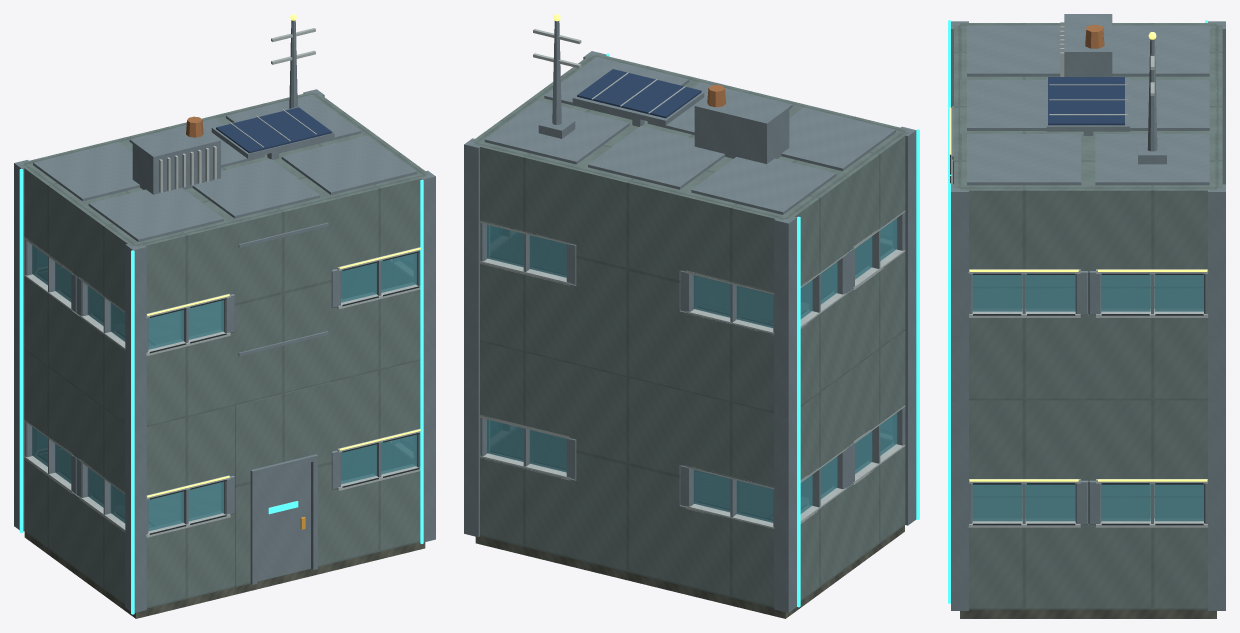
File: habitat.gltf
The picture shows the model from 3 angles, left to right: view 1: azimuth 30°, elevation 25°; view 2: azimuth 150°, elevation 25°; view 3: azimuth 270°, elevation 25°; orthographic projection. The views are drawn at different scales.
Parts seen in each view (by area): view 1: Hab_Wall_Solid_2m.002, Hab_Wall_Window_2m.011, Hab_Wall_Window_2m.009, Hab_Wall_Window_2m.003, Hab_Wall_Window_2m.001, Hab_Wall_Door_2m.001, Hab_Wall_Window_2m.015, Hab_Wall_Window_2m.013, Hab_Wall_Window_2m.007, Hab_Wall_Window_2m.005, Hab_Pressure_Door.001, Hab_Heat_Exchanger.001 (+25 smaller); view 2: Hab_Wall_Solid_2m.003, Hab_Wall_Solid_2m.001, Hab_Wall_Window_2m.012, Hab_Wall_Window_2m.010, Hab_Wall_Window_2m.004, Hab_Wall_Window_2m.002, Hab_Wall_Window_2m.013, Hab_Wall_Window_2m.005, Hab_Wall_Window_2m.015, Hab_Wall_Window_2m.007, Hab_Heat_Exchanger.001, Hab_Roof_2m.004 (+24 smaller); view 3: Hab_Wall_Window_2m.014, Hab_Wall_Window_2m.016, Hab_Wall_Window_2m.006, Hab_Wall_Window_2m.008, Hab_Roof_2m.005, Hab_Roof_2m.006, Hab_Roof_2m.001, Hab_Roof_2m.002, Hab_Roof_2m.003, Hab_Solar_Array.001, Hab_Roof_2m.004, Hab_Corner_3p6m.007 (+19 smaller).
Part boxes in pixels (<box>): Hab_Wall_Solid_2m.002: <box>230,197,331,405</box>; Hab_Wall_Window_2m.011: <box>327,173,427,381</box>; Hab_Wall_Window_2m.009: <box>134,220,234,426</box>; Hab_Wall_Window_2m.003: <box>331,360,420,563</box>; Hab_Wall_Window_2m.001: <box>146,405,234,608</box>; Hab_Wall_Door_2m.001: <box>234,382,331,587</box>; Hab_Wall_Window_2m.015: <box>21,164,83,387</box>; Hab_Wall_Window_2m.013: <box>76,204,139,423</box>; Hab_Wall_Window_2m.007: <box>24,350,76,568</box>; Hab_Wall_Window_2m.005: <box>76,388,125,604</box>; Hab_Pressure_Door.001: <box>257,462,310,581</box>; Hab_Heat_Exchanger.001: <box>132,116,220,194</box>; Hab_Wall_Solid_2m.003: <box>576,166,684,389</box>; Hab_Wall_Solid_2m.001: <box>576,365,680,584</box>; Hab_Wall_Window_2m.012: <box>473,141,580,364</box>; Hab_Wall_Window_2m.010: <box>679,191,786,412</box>; Hab_Wall_Window_2m.004: <box>480,341,576,559</box>; Hab_Wall_Window_2m.002: <box>679,390,774,607</box>; Hab_Wall_Window_2m.013: <box>841,131,909,370</box>; Hab_Wall_Window_2m.005: <box>849,331,905,565</box>; Hab_Wall_Window_2m.015: <box>781,174,849,406</box>; Hab_Wall_Window_2m.007: <box>800,371,849,601</box>; Hab_Heat_Exchanger.001: <box>694,84,789,163</box>; Hab_Roof_2m.004: <box>582,125,730,192</box>; Hab_Wall_Window_2m.014: <box>960,185,1088,400</box>; Hab_Wall_Window_2m.016: <box>1088,185,1216,400</box>; Hab_Wall_Window_2m.006: <box>968,400,1088,609</box>; Hab_Wall_Window_2m.008: <box>1088,400,1208,609</box>; Hab_Roof_2m.005: <box>960,134,1088,187</box>; Hab_Roof_2m.006: <box>1088,134,1216,187</box>; Hab_Roof_2m.001: <box>965,25,1060,79</box>; Hab_Roof_2m.002: <box>1112,25,1210,79</box>; Hab_Roof_2m.003: <box>960,79,1083,133</box>; Hab_Solar_Array.001: <box>1046,77,1129,135</box>; Hab_Roof_2m.004: <box>1093,79,1216,133</box>; Hab_Corner_3p6m.007: <box>948,183,968,401</box>.
Size of the model in its own units: 6.35 by 9.61 by 4.32.
Materials: 11 (4 with a texture image).
